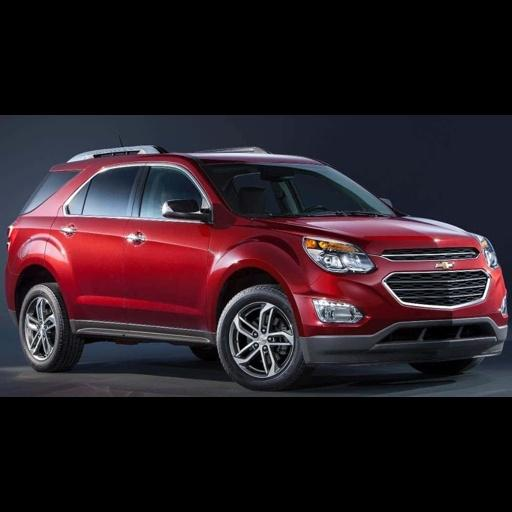suv: (6, 146, 505, 389)
